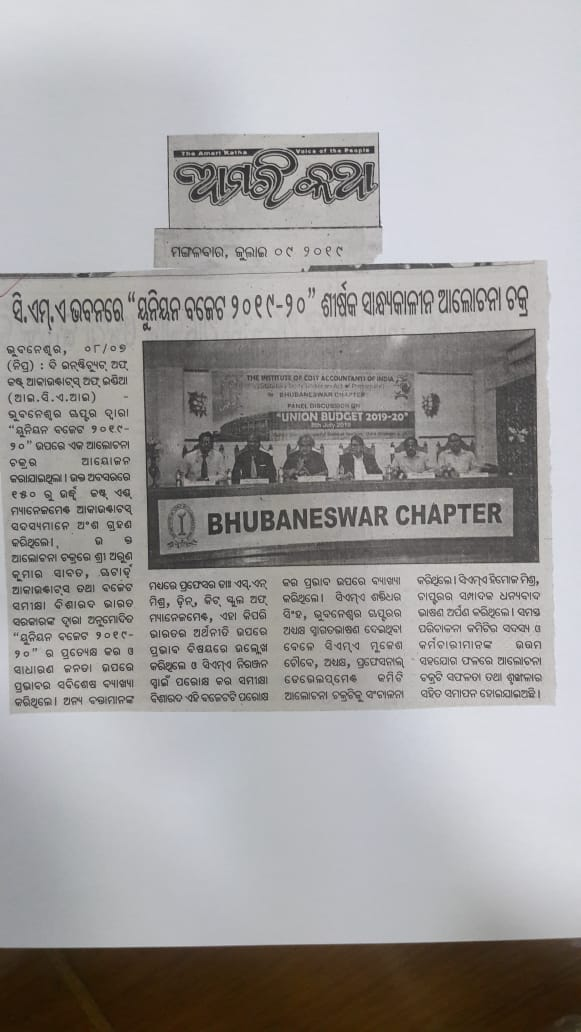news_paper: (5, 105, 574, 735)
